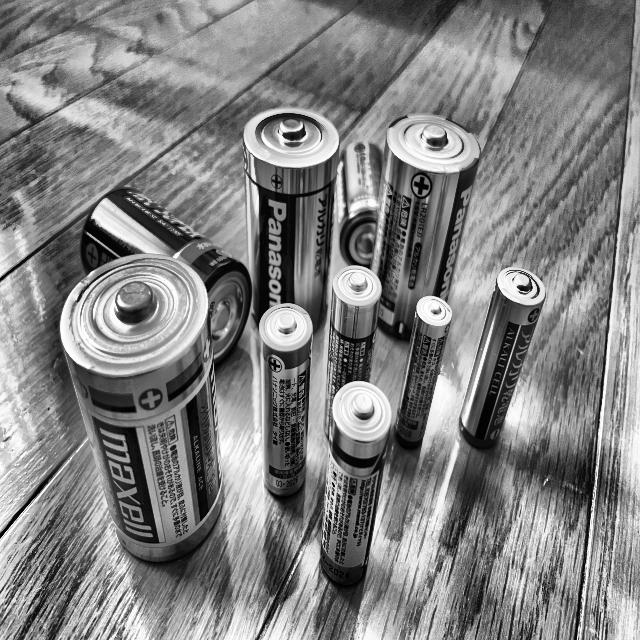drycell: (59, 248, 230, 570), (74, 182, 256, 373)
